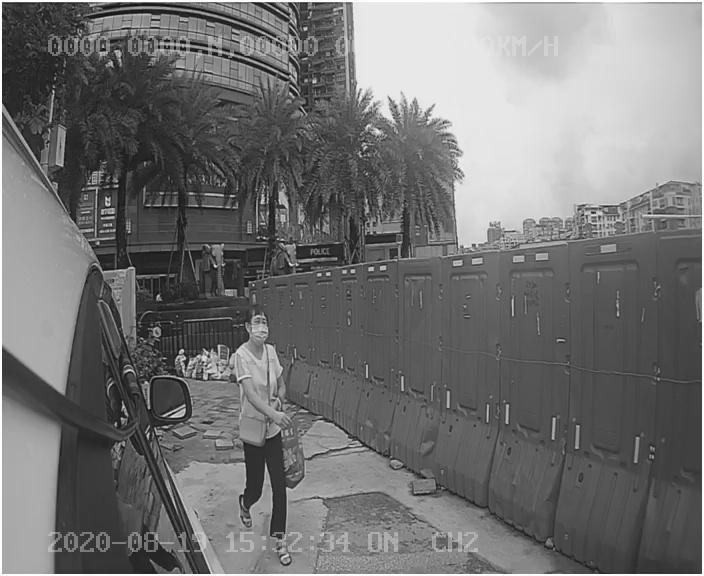person: (212, 301, 328, 561)
